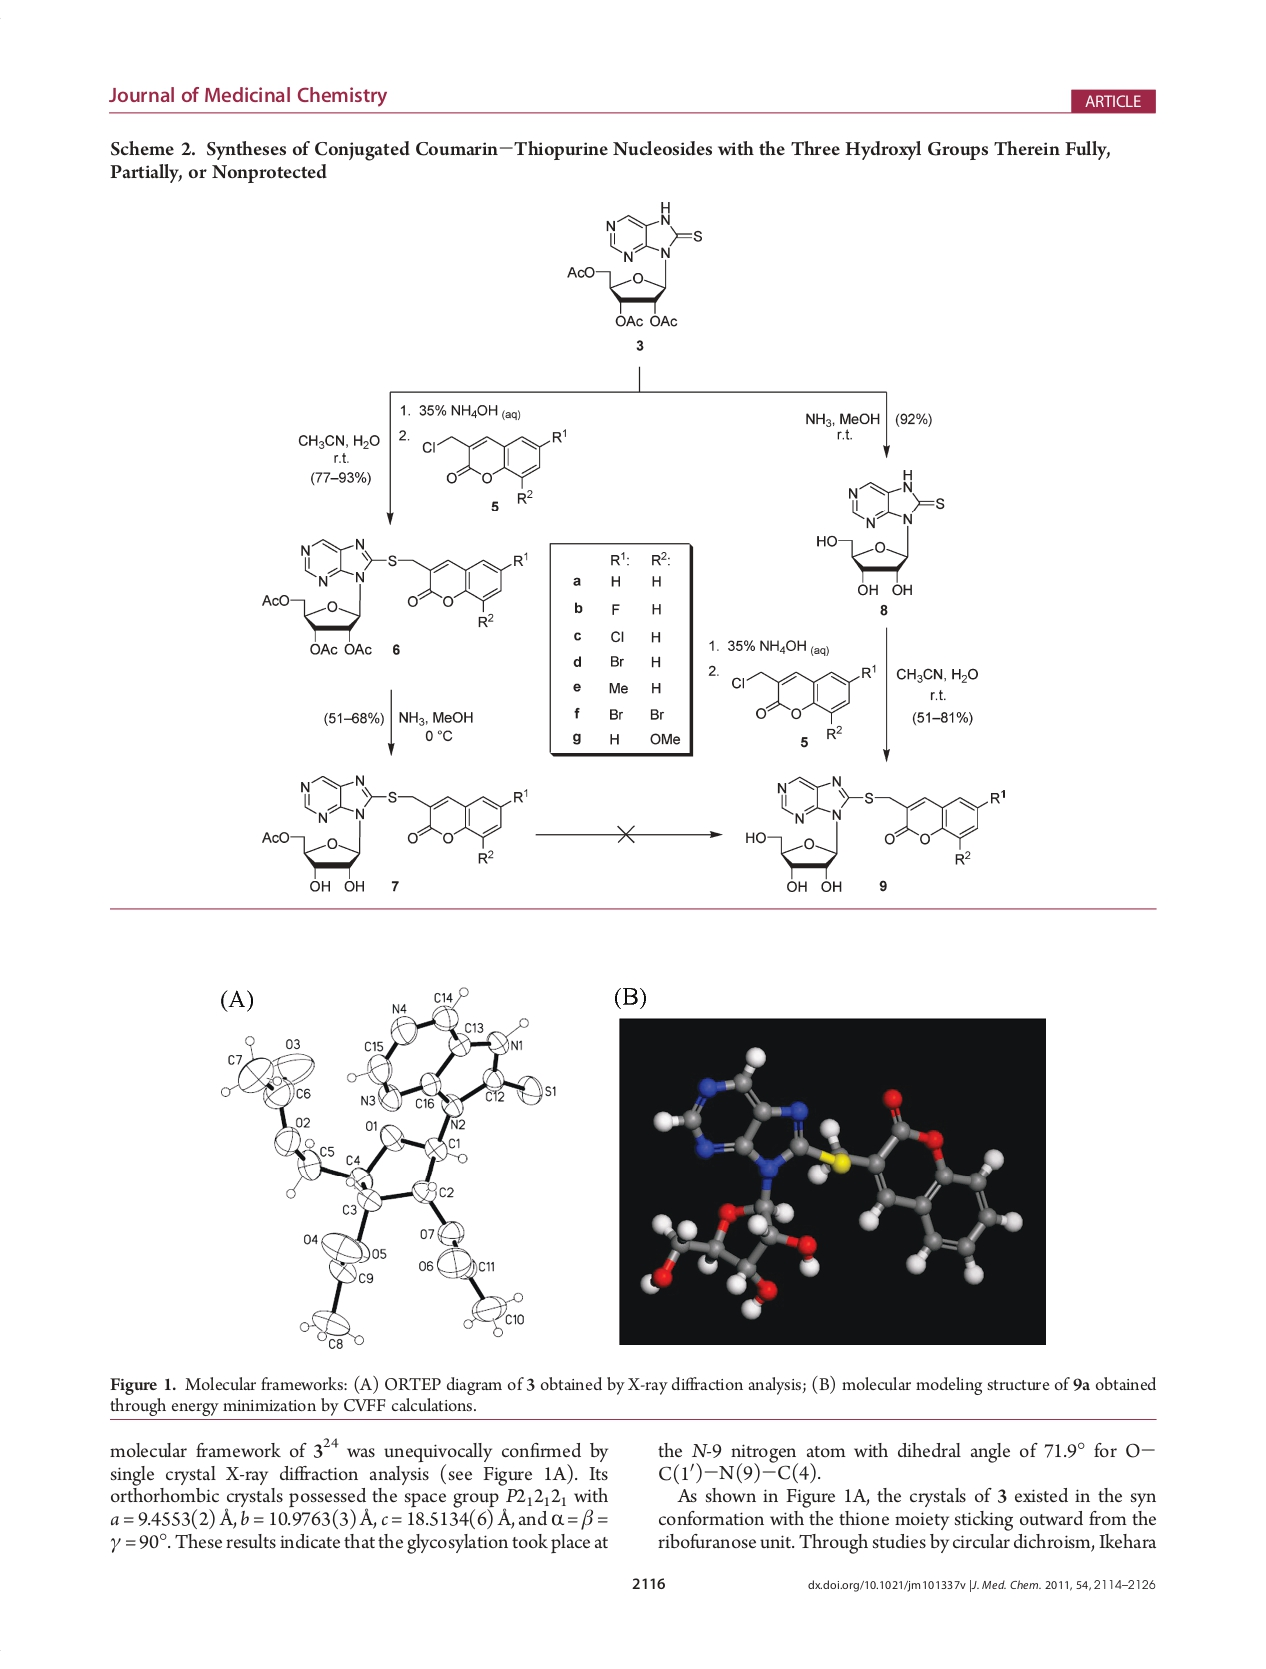exist_molecular: (257, 533, 528, 660), (259, 770, 529, 892), (742, 773, 1008, 894), (565, 193, 706, 332), (810, 465, 947, 601), (419, 427, 570, 505), (730, 662, 876, 741)
